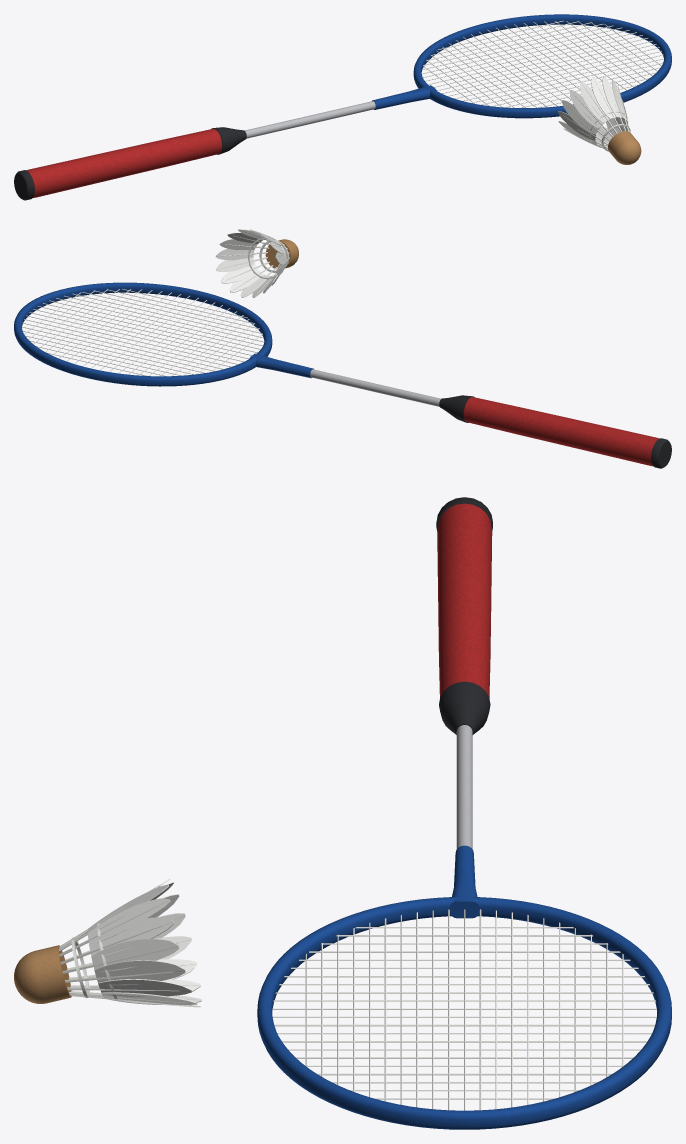
File: badminton-racket-and-shuttlecock.glb
3 renders of one model, top to bottom at view 1: azimuth 30°, elevation 25°; view 2: azimuth 150°, elevation 25°; view 3: azimuth 270°, elevation 25°, orthographic. The views are drawn at different scales.
Visible parts, largest first — view 1: Strings, Handle and grip, Racket frame, Shuttlecock feathers, Shaft, Shuttlecock cork base, Shuttlecock quills and threads; view 2: Strings, Racket frame, Handle and grip, Shuttlecock feathers, Shaft, Shuttlecock quills and threads, Shuttlecock cork base; view 3: Strings, Racket frame, Handle and grip, Shuttlecock feathers, Shuttlecock cork base, Shuttlecock quills and threads, Shaft.
Part boxes in pixels (x1,y1,x2,y2): Strings: (422,20,663,107); Handle and grip: (14,127,246,200); Racket frame: (372,14,671,118); Shuttlecock feathers: (558,76,628,147); Shaft: (244,101,375,138); Shuttlecock cork base: (608,131,641,164); Shuttlecock quills and threads: (563,81,630,151); Strings: (22,289,263,376); Racket frame: (14,282,313,386); Handle and grip: (439,395,671,468); Shuttlecock feathers: (216,229,286,297); Shaft: (310,369,440,406); Shuttlecock quills and threads: (221,231,289,294); Shuttlecock cork base: (265,239,298,269); Strings: (272,909,656,1110); Racket frame: (257,845,671,1129); Handle and grip: (436,497,492,734); Shuttlecock feathers: (87,879,201,1007); Shuttlecock cork base: (14,945,71,1003); Shuttlecock quills and threads: (58,885,189,1005); Shaft: (456,725,472,849).
Size of the model in its own units: 0.6651 by 0.0617 by 0.3159.
Materials: 9 (9 with a texture image).
